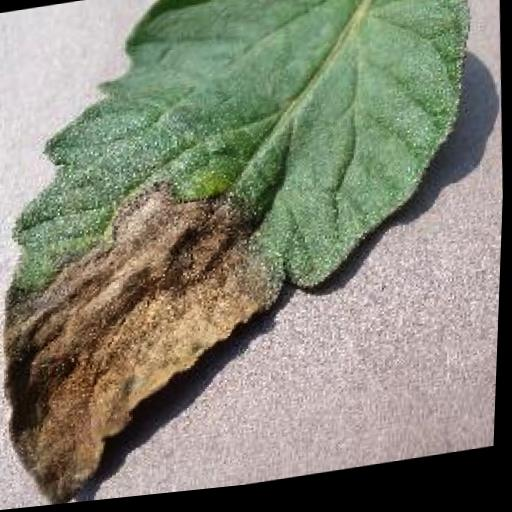Late Blight: (0, 0, 497, 512)
